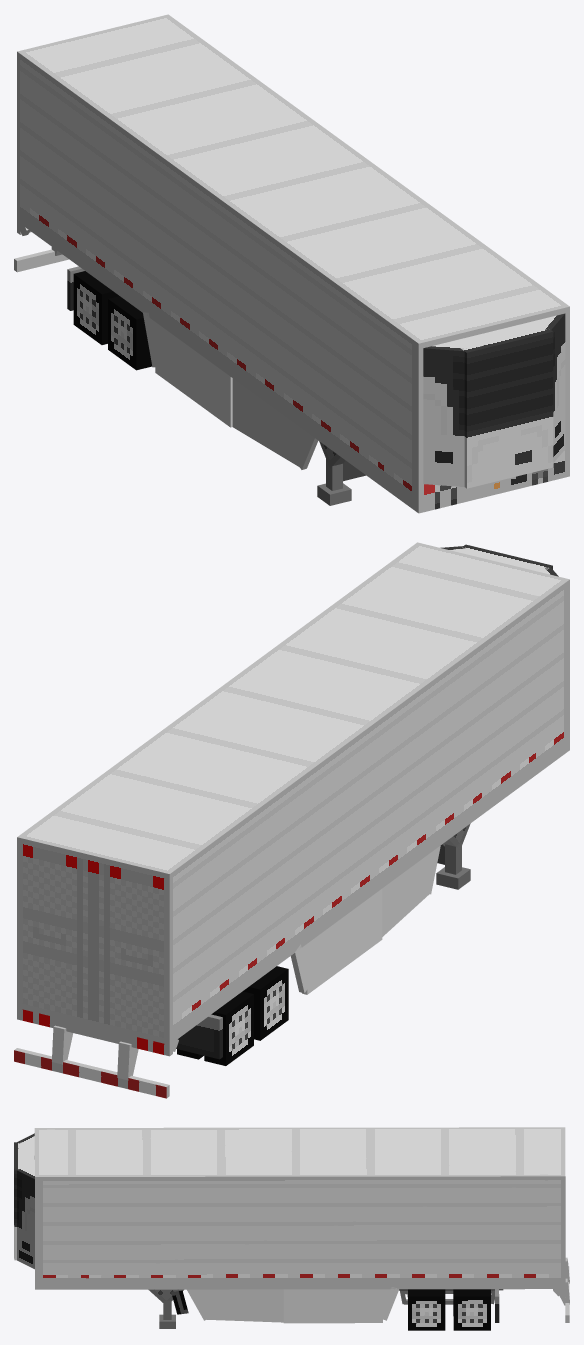
File: 53_reefer_trailer.glb
The picture shows the model from 3 angles, top to bottom: view 1: azimuth 30°, elevation 25°; view 2: azimuth 150°, elevation 25°; view 3: azimuth 270°, elevation 25°; orthographic projection. The views are drawn at different scales.
Parts seen in each view (by area): view 1: Object_2; view 2: Object_2; view 3: Object_2.
Boxes of the visible parts, x1,y1,x2,y2 form: Object_2: (14,14,569,513); Object_2: (14,542,569,1098); Object_2: (14,1127,569,1330).
Size of the model in its own units: 2.69 by 3.89 by 12.73.
1 material, 1 textured.
